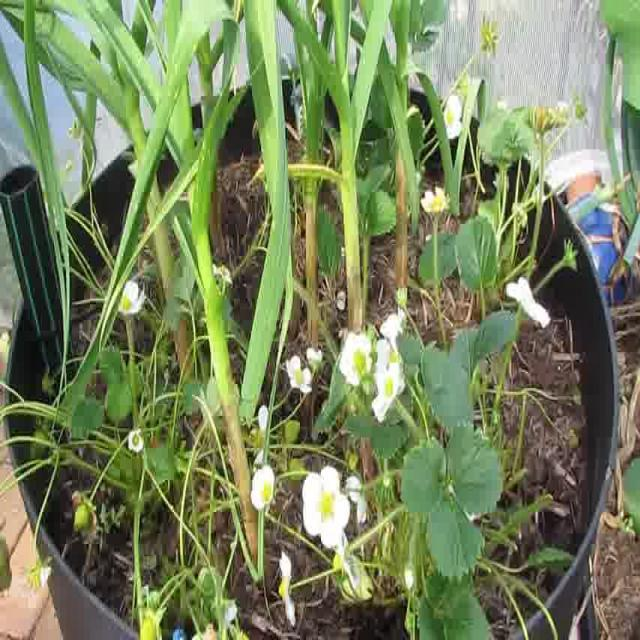Fruta sana: (28, 425, 50, 461), (140, 608, 162, 640), (0, 537, 12, 591), (73, 502, 93, 532), (280, 420, 300, 448), (286, 458, 306, 480), (41, 370, 54, 395)
